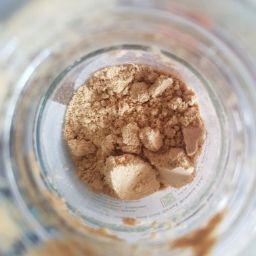Ginger powder: (54, 75, 215, 211), (74, 70, 201, 193), (99, 96, 182, 172)
